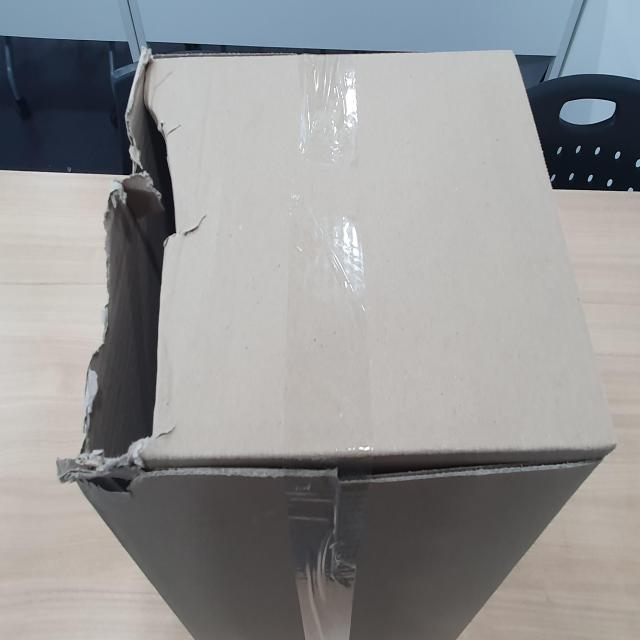damaged: (81, 96, 180, 490)
